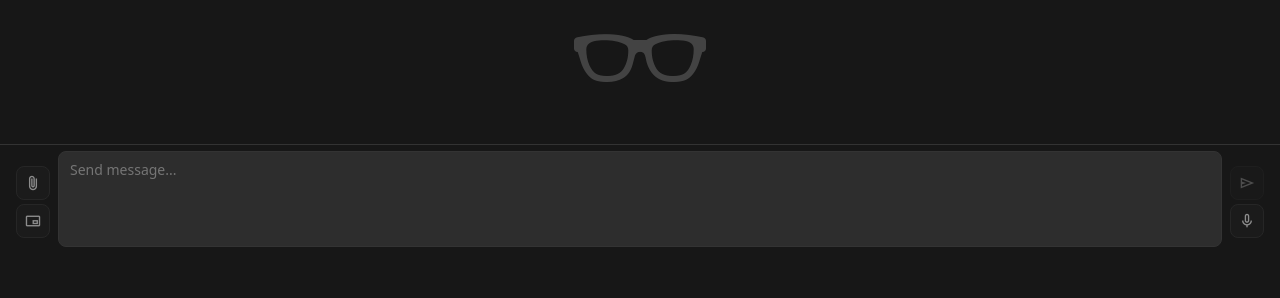
Test: ChatModule queue › delivers queued messages to their origin chat, never the displayed one
(page scrolled)
Note: Start a send in chat-1, then queue a second message in chat-1.
In the text box with placeholder "Send message...": (640, 199) [58,151,1222,247], type "first"
Then press Enter
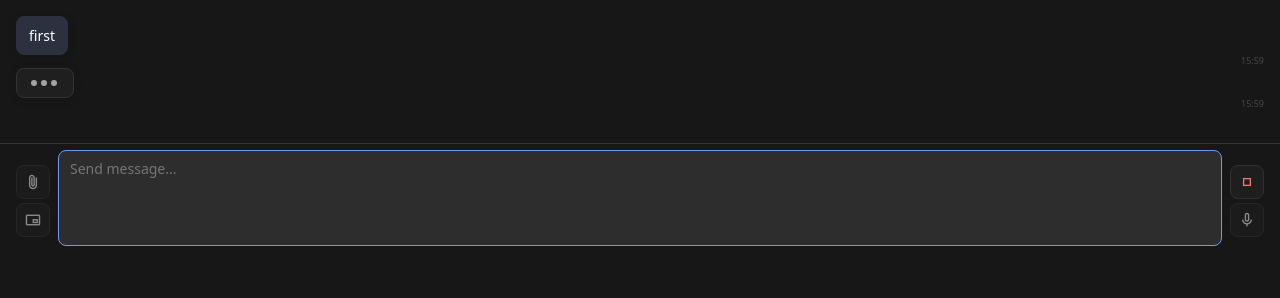
In the text box with placeholder "Send message...": (640, 198) [58,150,1222,246], type "queued-for-1"
Then press Enter
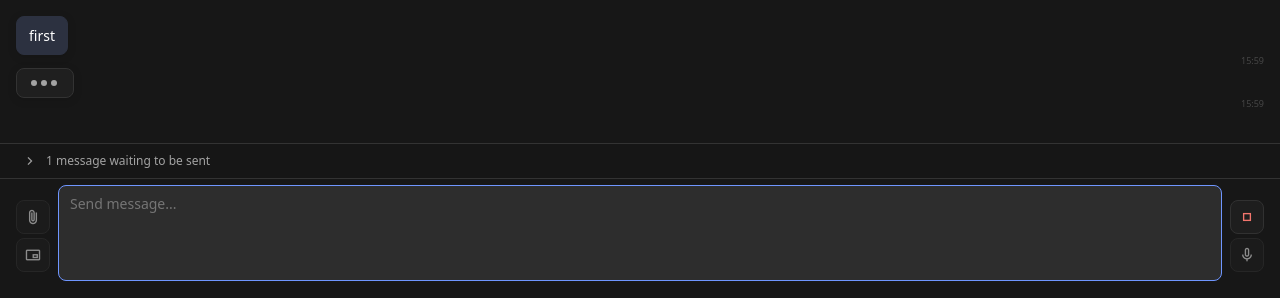
Check: the button "1 message waiting to be sent" is shown, box [16,152,216,170]
